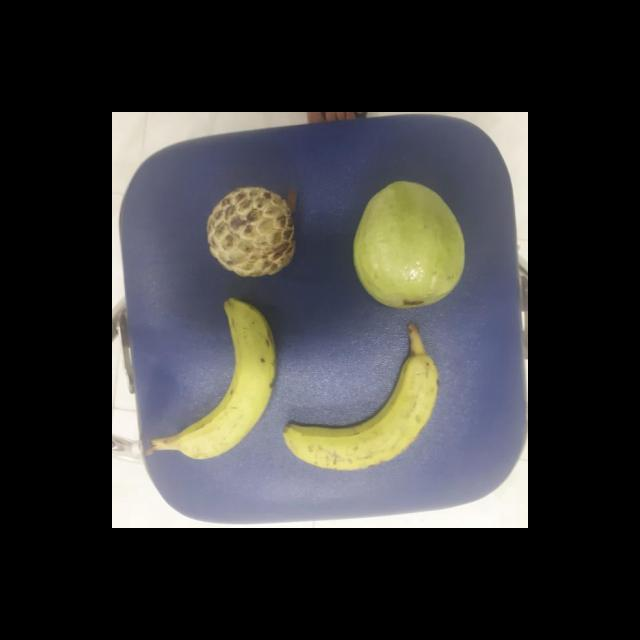Sakya fruit: (206, 183, 296, 283)
banana: (170, 293, 276, 469), (284, 357, 441, 472)
guava: (348, 179, 468, 311)
